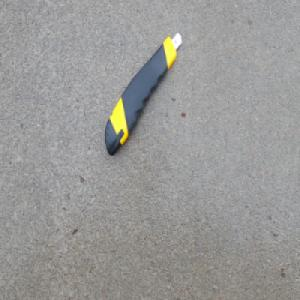Cutter: (104, 30, 182, 158)
